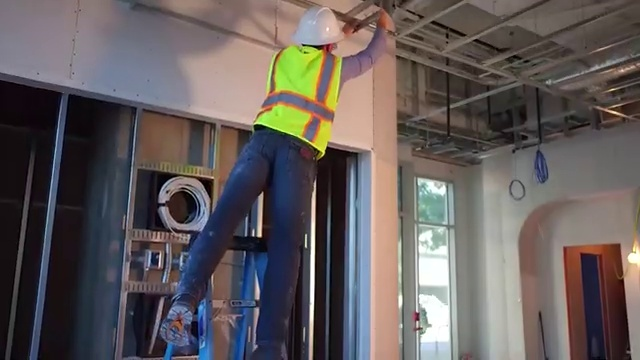helmet: (293, 5, 348, 46)
jacket: (265, 45, 332, 163)
